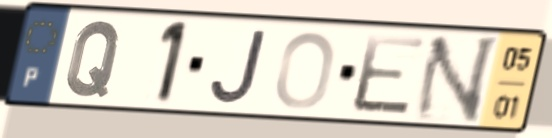1: (154, 19, 194, 109)
E: (348, 31, 430, 119)
J: (207, 28, 272, 107)
N: (408, 33, 505, 125)
O: (272, 28, 339, 113)
Q: (63, 18, 126, 100)
